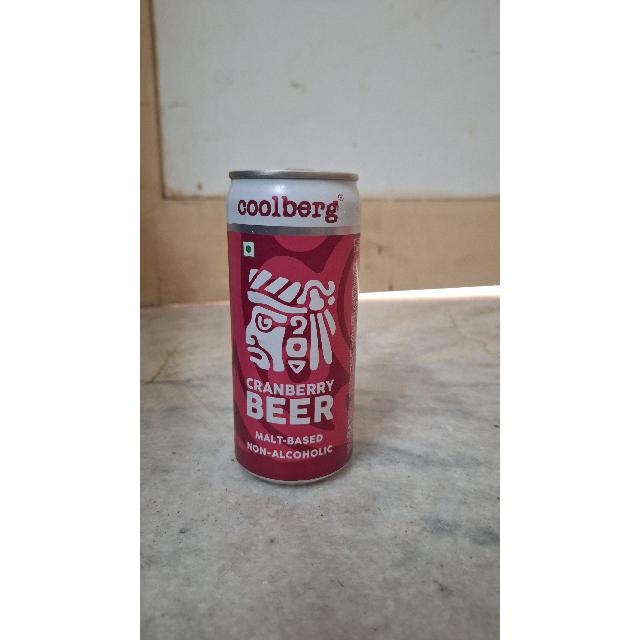Coolberg: (224, 174, 356, 481)
